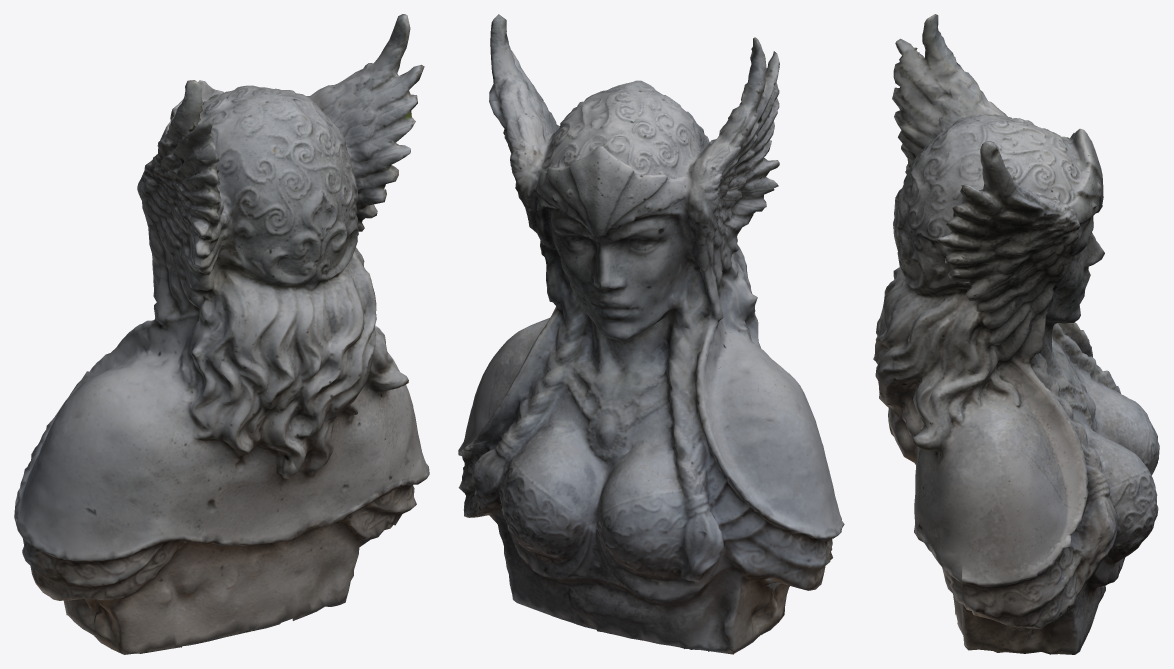
Rendered from viking_goddess.glb.
3 renders of one model, left to right at view 1: azimuth 30°, elevation 25°; view 2: azimuth 150°, elevation 25°; view 3: azimuth 270°, elevation 25°, orthographic. The views are drawn at different scales.
Visible parts, largest first — view 1: TexturedMesh.002; view 2: TexturedMesh.002; view 3: TexturedMesh.002.
Boxes of the visible parts, x1,y1,x2,y2 form: TexturedMesh.002: [14, 14, 429, 654]; TexturedMesh.002: [458, 14, 844, 654]; TexturedMesh.002: [873, 14, 1159, 654].
Size of the model in its own units: 0.5456 by 0.7782 by 0.3636.
Materials: 1 (1 with a texture image).
